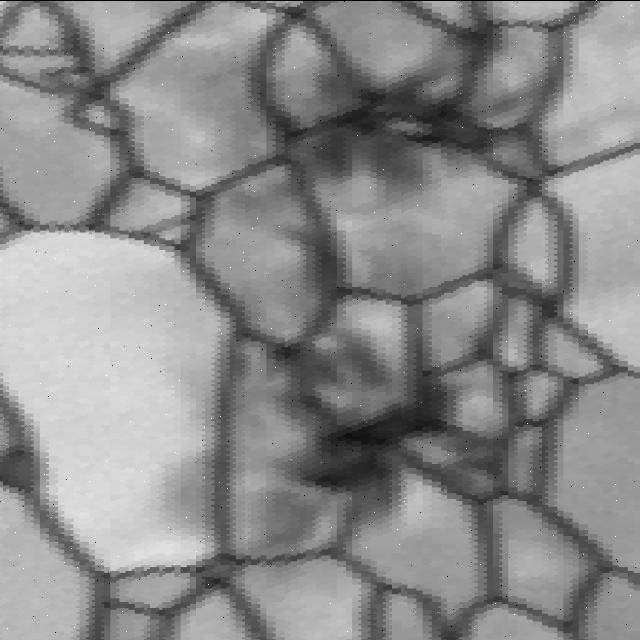good_void: (236, 334, 536, 548), (247, 12, 546, 219)
